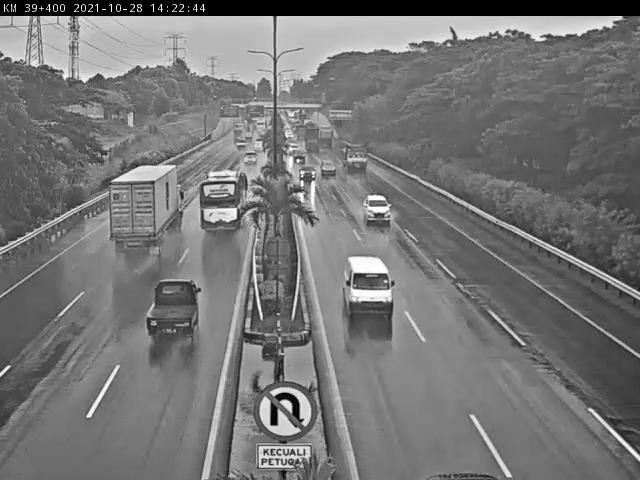big bus: (198, 171, 249, 236)
car: (341, 253, 398, 316), (145, 279, 201, 342), (362, 192, 393, 225), (319, 159, 339, 178), (297, 164, 318, 180)
truck-l-: (343, 142, 370, 171)
truck-xl-: (109, 165, 188, 254)
